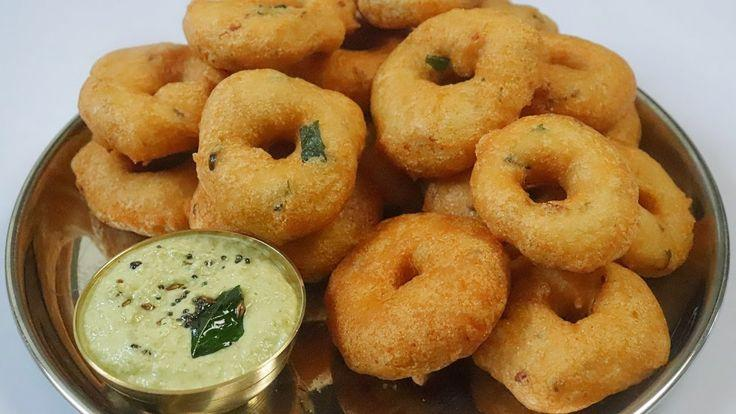coconut chutney: (69, 237, 308, 393)
medu vada: (344, 17, 691, 400), (57, 0, 346, 239)
